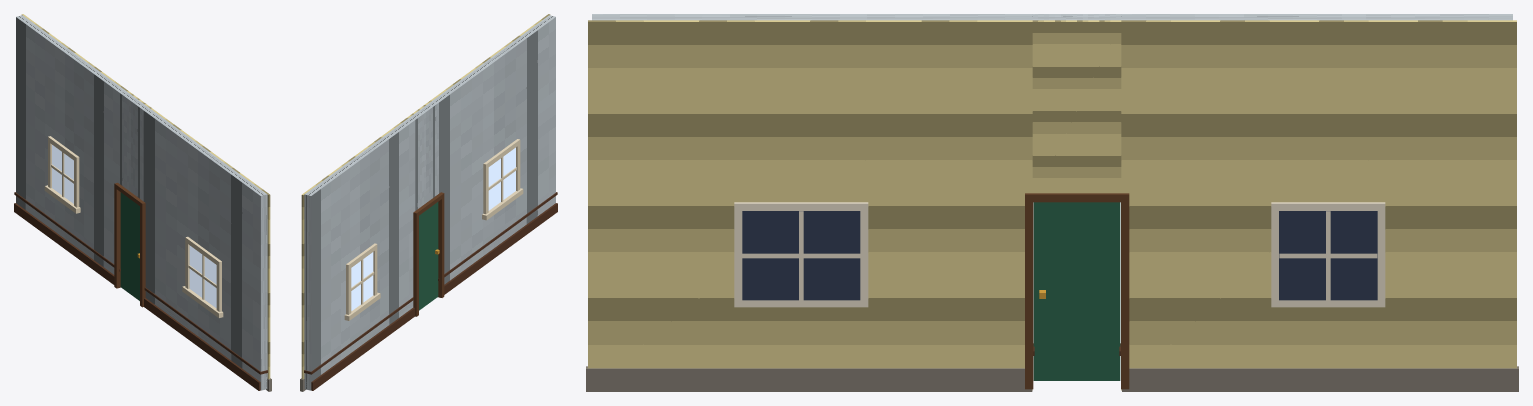
The model's file is left.glb.
The picture shows the model from 3 angles, left to right: view 1: azimuth 30°, elevation 25°; view 2: azimuth 150°, elevation 25°; view 3: azimuth 270°, elevation 25°; orthographic projection. The views are drawn at different scales.
Visible parts, largest first — view 1: Box3, Box1, Box5, Box14, Box4, Box25, Box2, Box8, Box41, Box36, Box11, Box39 (+10 smaller); view 2: Box3, Box1, Box5, Box14, Box4, Box2, Box25, Box6, Box36, Box12, Box11, Box42 (+10 smaller); view 3: Box8, Box6, Box14, Box10, Box9, Box18, Box7, Box29, Box17, Box28, Box3, Box1 (+3 smaller).
Part boxes in pixels (box(x1,y1,x2,y2)): Box3: box(143, 108, 267, 390); Box1: box(16, 15, 126, 274); Box5: box(120, 91, 149, 201); Box14: box(120, 192, 139, 300); Box4: box(144, 298, 260, 390); Box25: box(189, 245, 216, 308); Box2: box(14, 203, 114, 284); Box8: box(151, 108, 270, 379); Box41: box(145, 291, 267, 390); Box36: box(52, 145, 73, 203); Box11: box(114, 182, 120, 288); Box39: box(16, 197, 114, 274); Box3: box(432, 15, 555, 284); Box1: box(304, 118, 415, 390); Box5: box(409, 101, 438, 210); Box14: box(419, 202, 438, 310); Box4: box(444, 203, 557, 294); Box2: box(311, 307, 414, 390); Box25: box(488, 147, 515, 210); Box6: box(301, 118, 408, 379); Box36: box(351, 252, 373, 310); Box12: box(438, 192, 444, 297); Box11: box(413, 211, 418, 316); Box42: box(438, 192, 557, 280); Box8: box(588, 20, 1032, 390); Box6: box(1121, 20, 1516, 390); Box14: box(1033, 202, 1120, 380); Box10: box(1032, 20, 1121, 193); Box9: box(586, 366, 1032, 391); Box18: box(742, 211, 860, 300); Box7: box(1122, 366, 1518, 391); Box29: box(1279, 211, 1377, 300); Box17: box(734, 202, 868, 307); Box28: box(1271, 202, 1385, 307); Box3: box(592, 14, 1032, 20); Box1: box(1121, 14, 1512, 20).
Size of the model in its own units: 0.338 by 4.14 by 9.47.
Materials: 11 (2 with a texture image).
